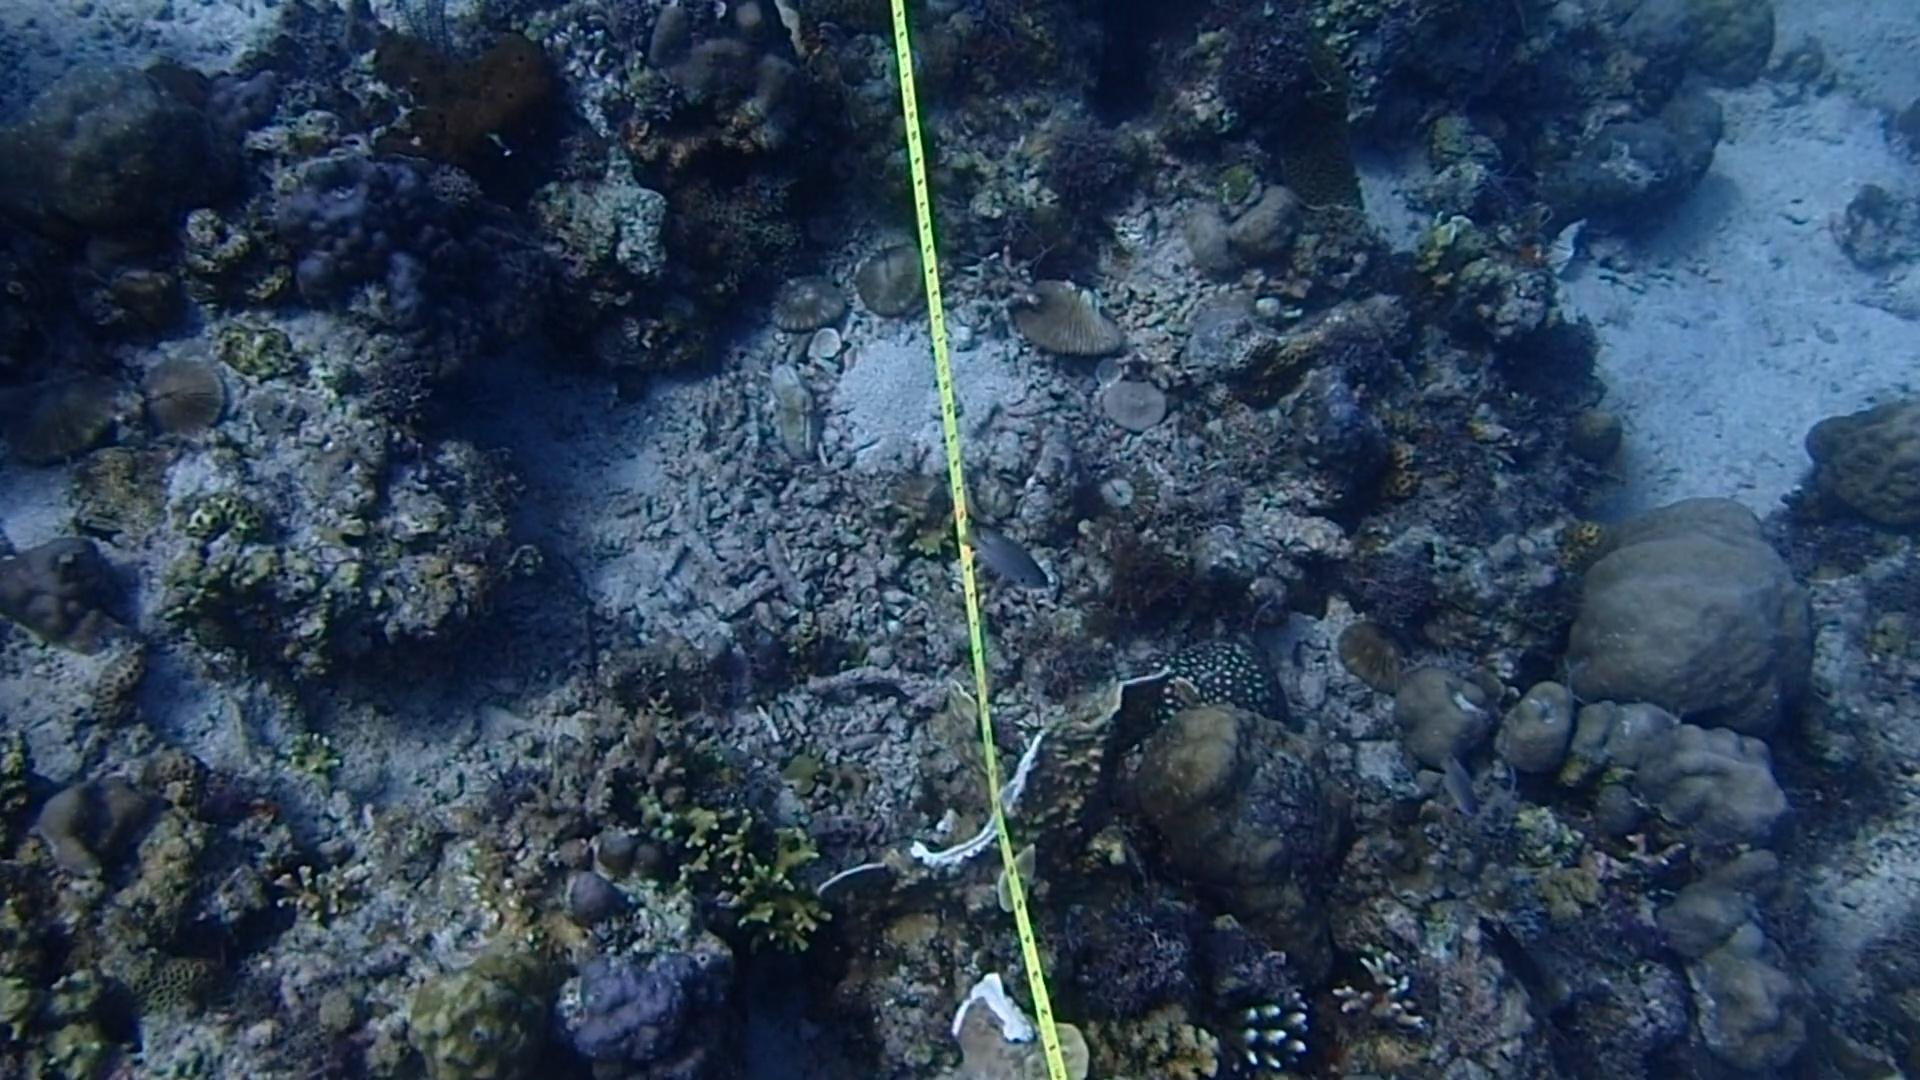Light Fish: (951, 505, 1056, 607)
